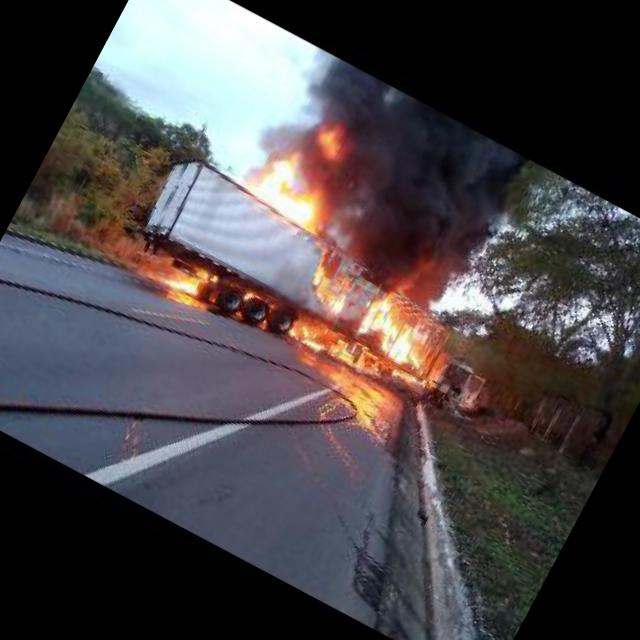fire: (239, 139, 338, 233), (353, 291, 446, 374), (300, 265, 356, 315), (312, 124, 348, 160), (288, 320, 328, 352), (390, 362, 428, 390), (326, 334, 359, 362), (167, 274, 200, 298)
smoke: (252, 51, 548, 324)
